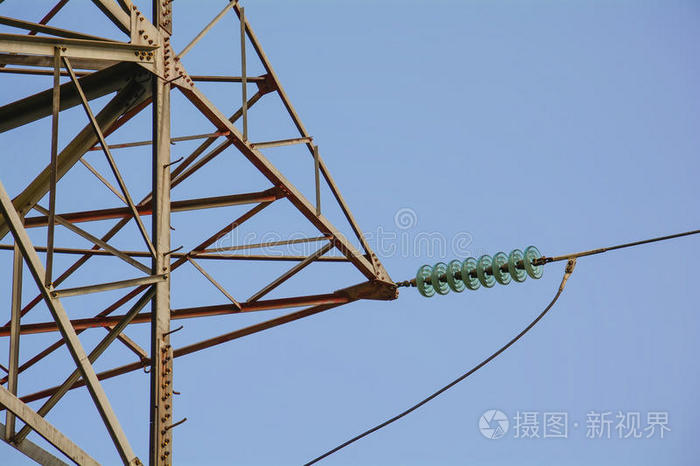insulator: (414, 243, 546, 299)
